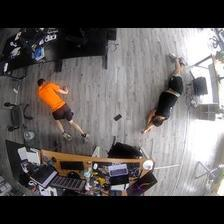fall: (34, 78, 92, 142), (141, 54, 186, 135)
